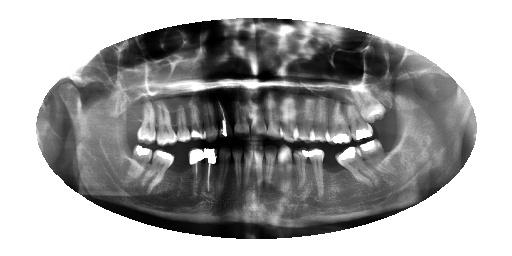i10decay: (229, 140, 245, 198)
i11decay: (216, 145, 232, 198)
i12healthy: (202, 143, 217, 200)
i13healthy: (184, 145, 208, 201)
i14loss: (166, 147, 193, 184)
i15healthy: (141, 148, 176, 199)
i16healthy: (124, 142, 155, 189)
i1healthy: (353, 134, 405, 186)
i2healthy: (332, 144, 380, 188)
i3loss: (317, 147, 352, 189)
i4healthy: (309, 145, 328, 202)
i5healthy: (290, 146, 312, 199)
i6healthy: (275, 142, 295, 197)
i7decay: (264, 140, 279, 198)
i8decay: (251, 140, 265, 196)
i9decay: (240, 141, 256, 198)
u10decay: (216, 94, 234, 144)
u11healthy: (197, 99, 219, 145)
u12healthy: (188, 99, 206, 145)
u13healthy: (171, 101, 192, 145)
u14healthy: (155, 100, 177, 149)
u15healthy: (134, 95, 159, 145)
u16loss: (117, 93, 143, 133)
u1healthy: (344, 73, 390, 128)
u2healthy: (341, 98, 377, 143)
u3healthy: (323, 94, 355, 147)
u4healthy: (308, 92, 333, 147)
u5healthy: (293, 94, 321, 147)
u6healthy: (273, 83, 301, 146)
u7healthy: (259, 86, 285, 144)
u8healthy: (247, 89, 269, 144)
u9decay: (234, 96, 251, 142)
